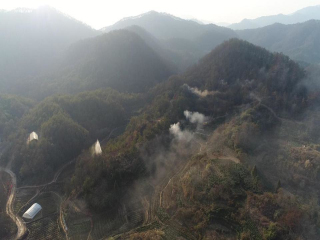smoke: (167, 109, 212, 150), (180, 83, 222, 99)
